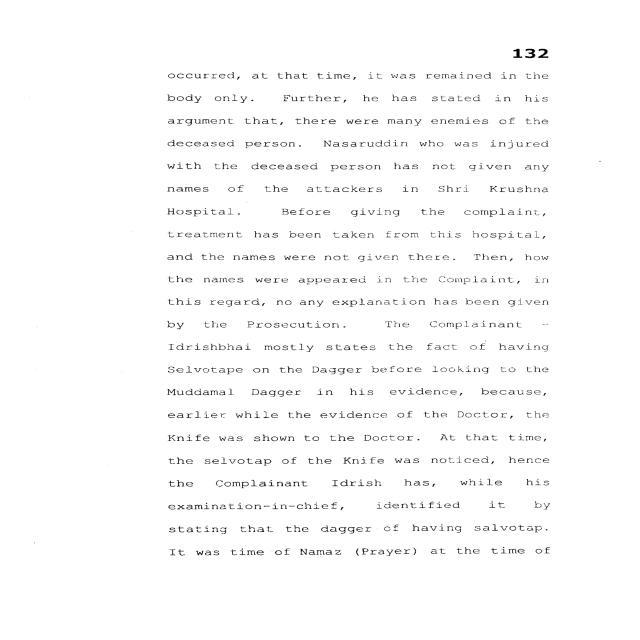page-number: (402, 0, 640, 69)
